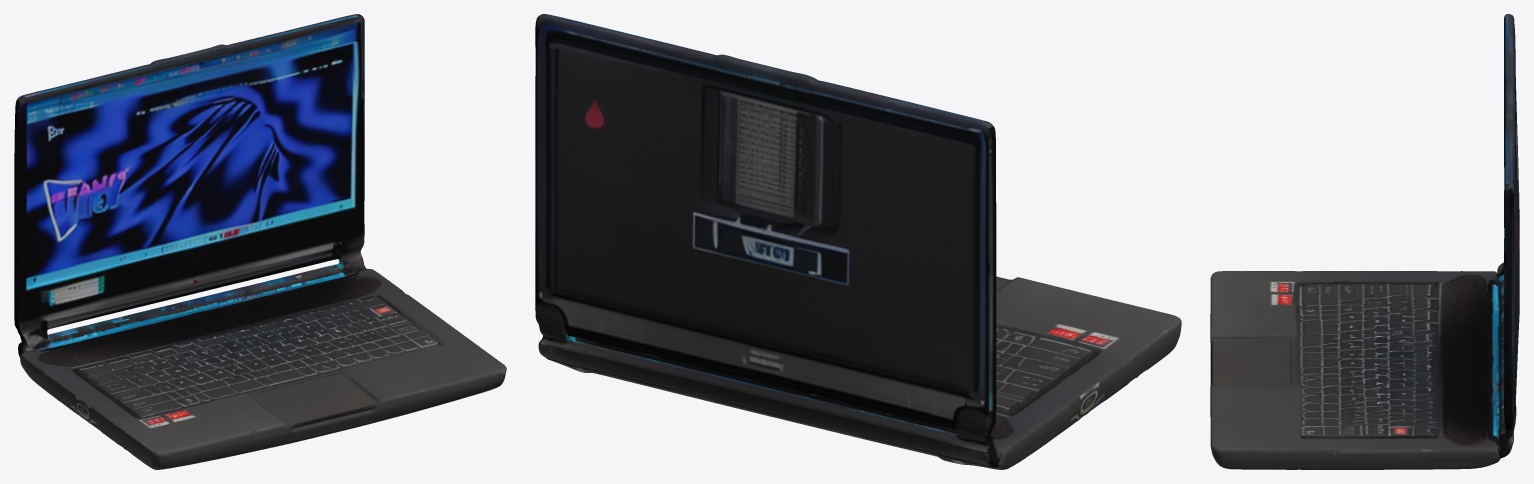
3 views of the same model, side by side, from view 1: azimuth 30°, elevation 25°; view 2: azimuth 150°, elevation 25°; view 3: azimuth 270°, elevation 25° (orthographic). The views are drawn at different scales.
Parts seen in each view (by area): view 1: tmpvzxu9syg.ply; view 2: tmpvzxu9syg.ply; view 3: tmpvzxu9syg.ply.
Boxes of the visible parts, x1,y1,x2,y2 form: tmpvzxu9syg.ply: [14, 14, 506, 469]; tmpvzxu9syg.ply: [535, 14, 1181, 469]; tmpvzxu9syg.ply: [1210, 14, 1519, 469].
Size of the model in its own units: 1.99 by 1.5 by 1.45.
Materials: 1 (1 with a texture image).
